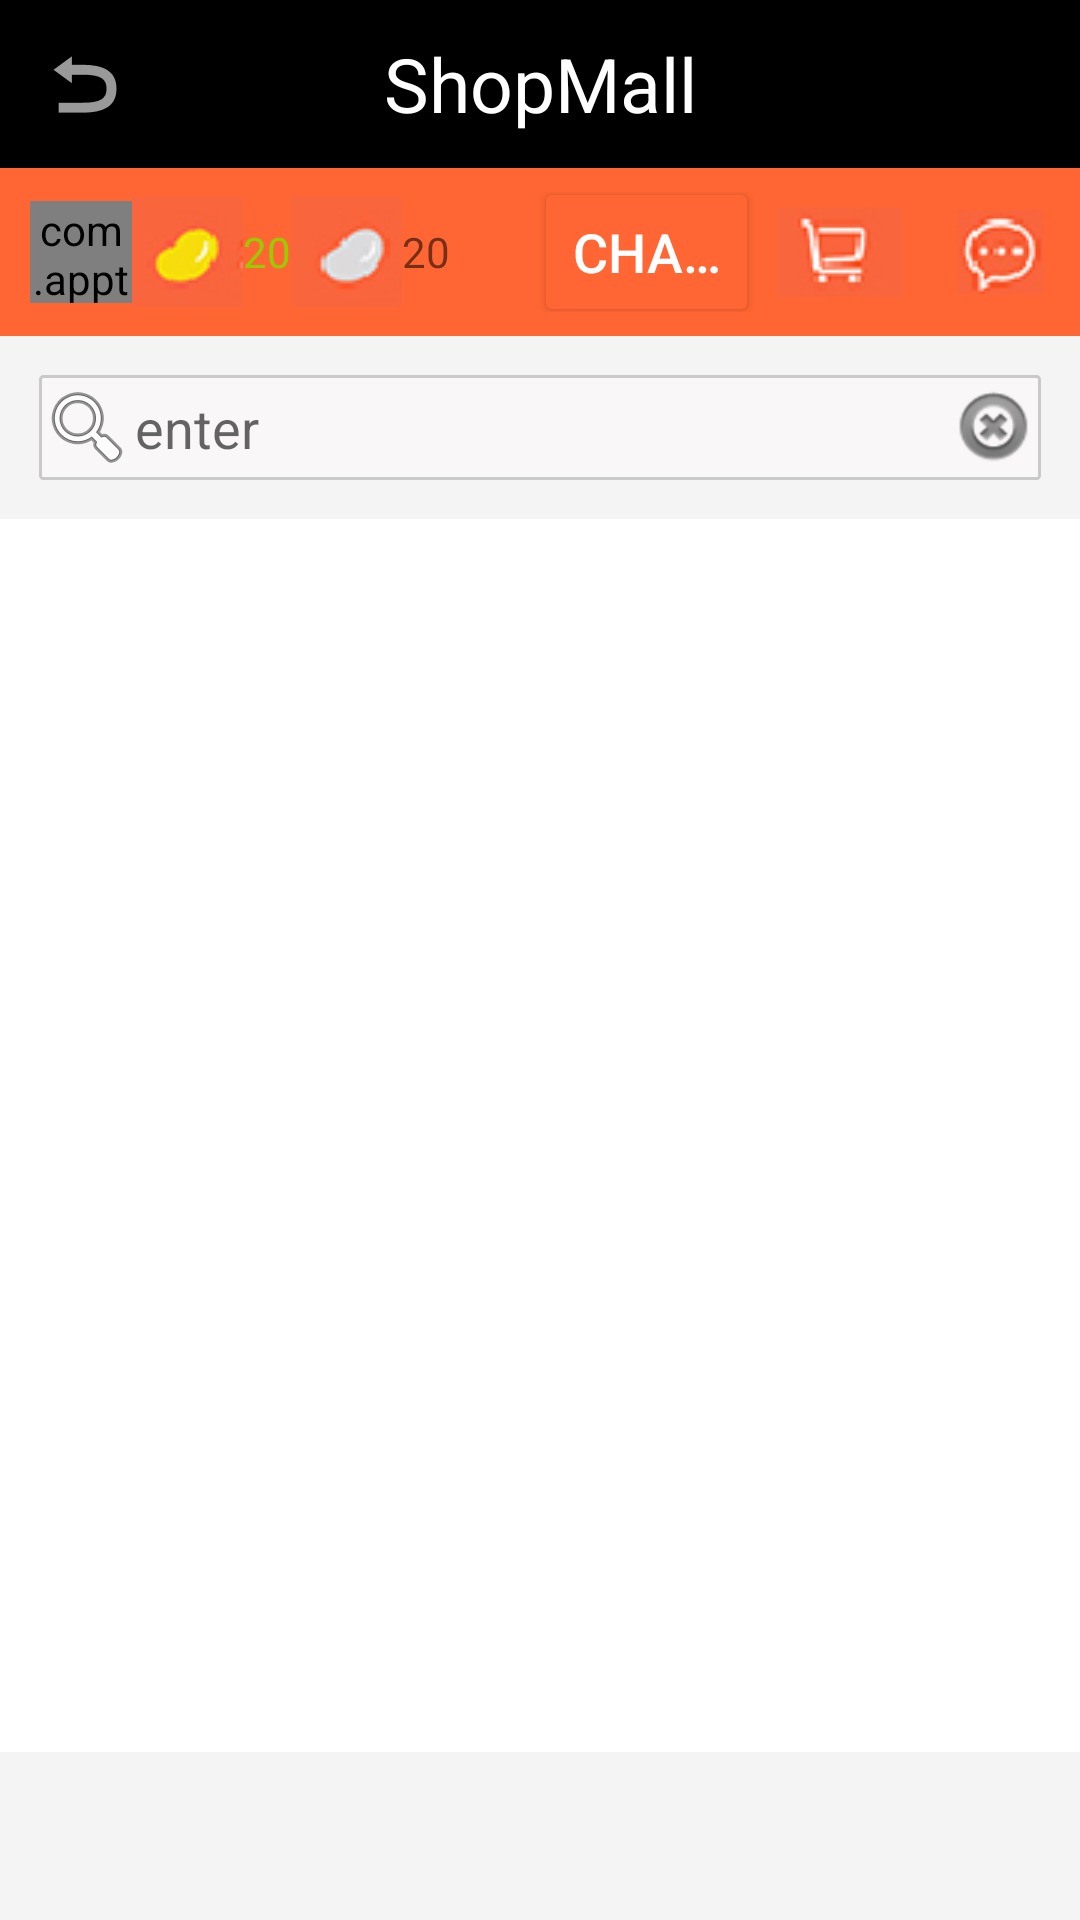

Icon bounding boxes for this 1080×1920 phone screenshot, format (x1, y1, x2, y2):
goldbean: (155, 228, 243, 282)
messages: (957, 210, 1044, 294)
shoppingcart: (777, 207, 903, 297)
silverbean: (320, 228, 385, 283)
